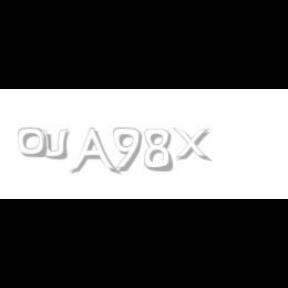8: (144, 128, 172, 172)
9: (112, 128, 142, 172)
A: (69, 128, 117, 176)
o: (17, 128, 46, 158)
u: (37, 128, 72, 160)
x: (173, 128, 215, 162)
